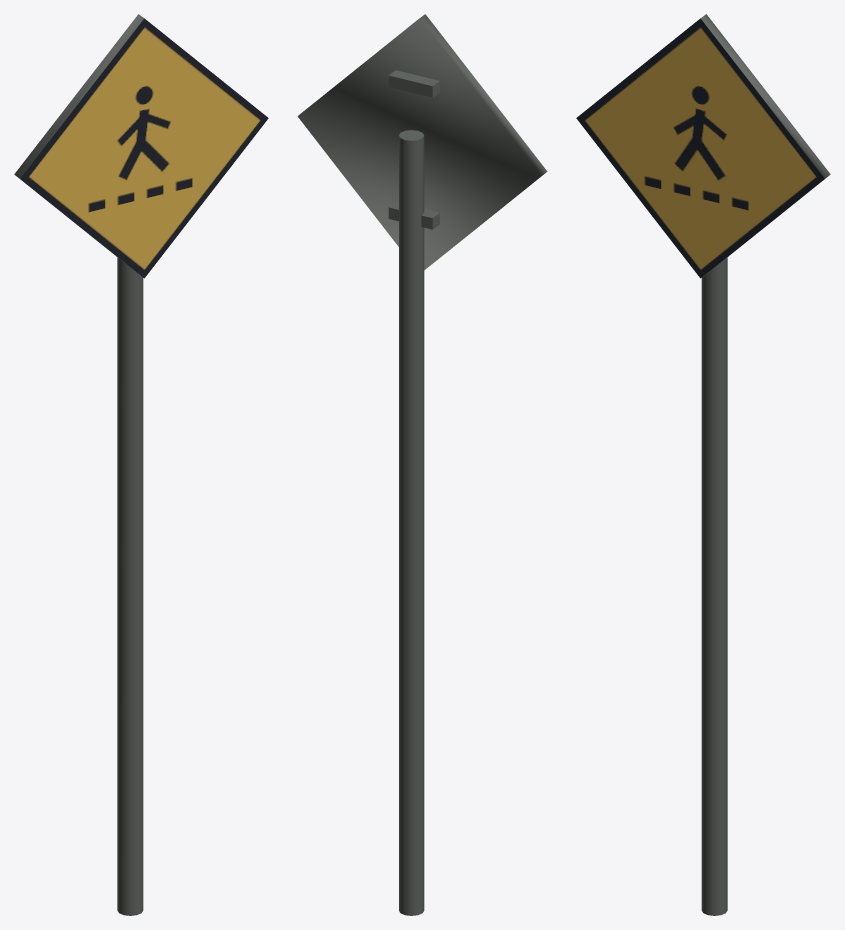
File: MS_SG_08_Pedestrian.glb
3 views of the same model, side by side, from view 1: azimuth 30°, elevation 25°; view 2: azimuth 150°, elevation 25°; view 3: azimuth 330°, elevation 25° (orthographic).
Visible parts, largest first — view 1: SignFace, _MeshInstance3D_51, _MeshInstance3D_53; view 2: _MeshInstance3D_53, _MeshInstance3D_51, _MeshInstance3D_55; view 3: SignFace, _MeshInstance3D_51, _MeshInstance3D_53.
Part boxes in pixels (x1,y1,x2,y2): SignFace: [20, 18, 268, 278]; _MeshInstance3D_51: [117, 257, 143, 915]; _MeshInstance3D_53: [14, 14, 144, 276]; _MeshInstance3D_53: [297, 14, 547, 269]; _MeshInstance3D_51: [399, 130, 424, 915]; _MeshInstance3D_55: [388, 70, 439, 97]; SignFace: [576, 18, 824, 278]; _MeshInstance3D_51: [701, 257, 727, 915]; _MeshInstance3D_53: [700, 14, 830, 276].
Bounding box in the file's own units: 0.775 × 2.69 × 0.111.
Materials: 2 (1 with a texture image).
